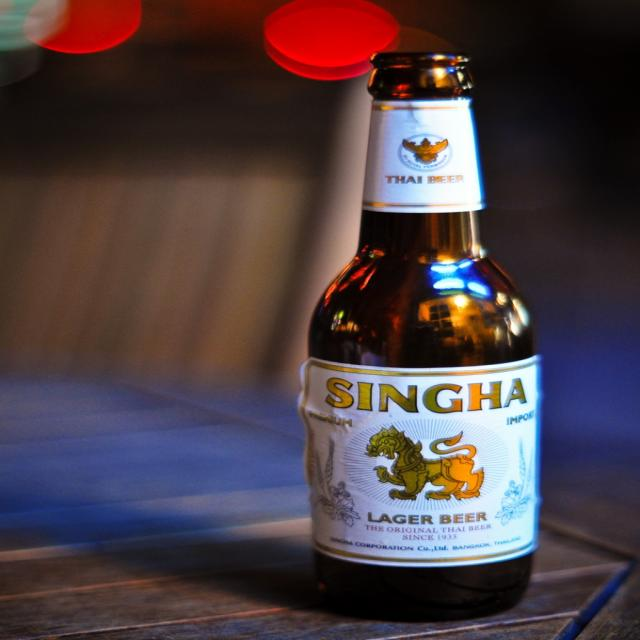singha: (304, 358, 538, 567)
